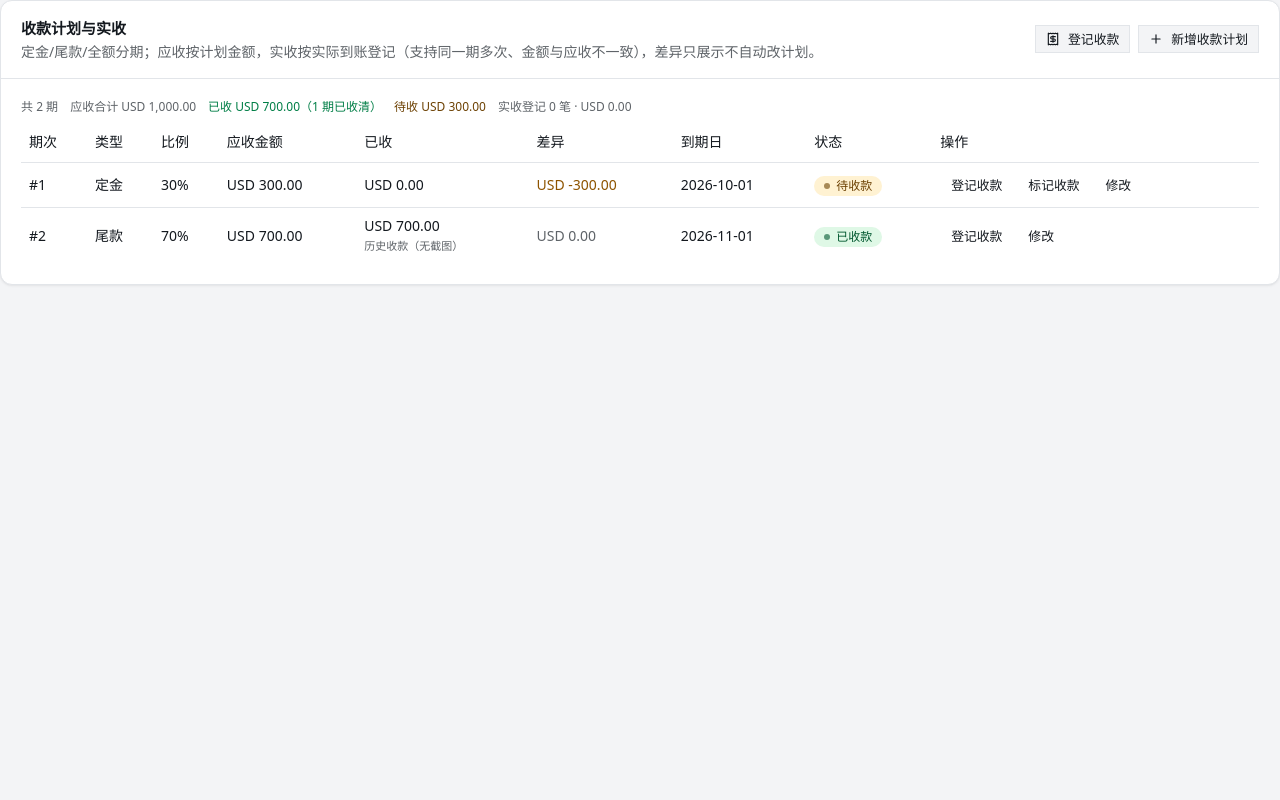
PaymentSchedulesPanel › O3：登记收款标题用「期次序号」，不是数据库 id（id 跳号时不误导）
The width and height of the screenshot is (1280, 800).
Click the button "登记收款" in the row of "#2" at x=977, y=236, box 940,222 -> 1013,250
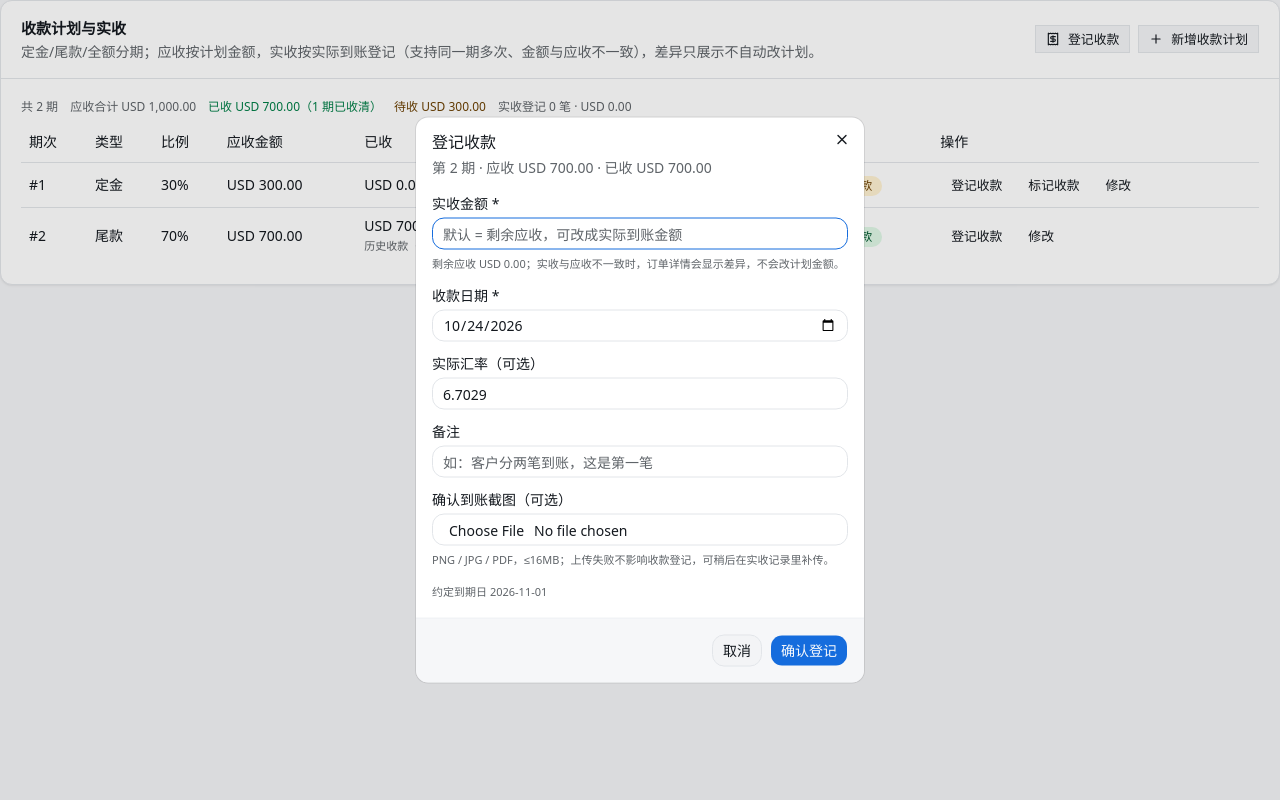
Now the text "第 2 期" is shown, box 432,158 -> 712,176
